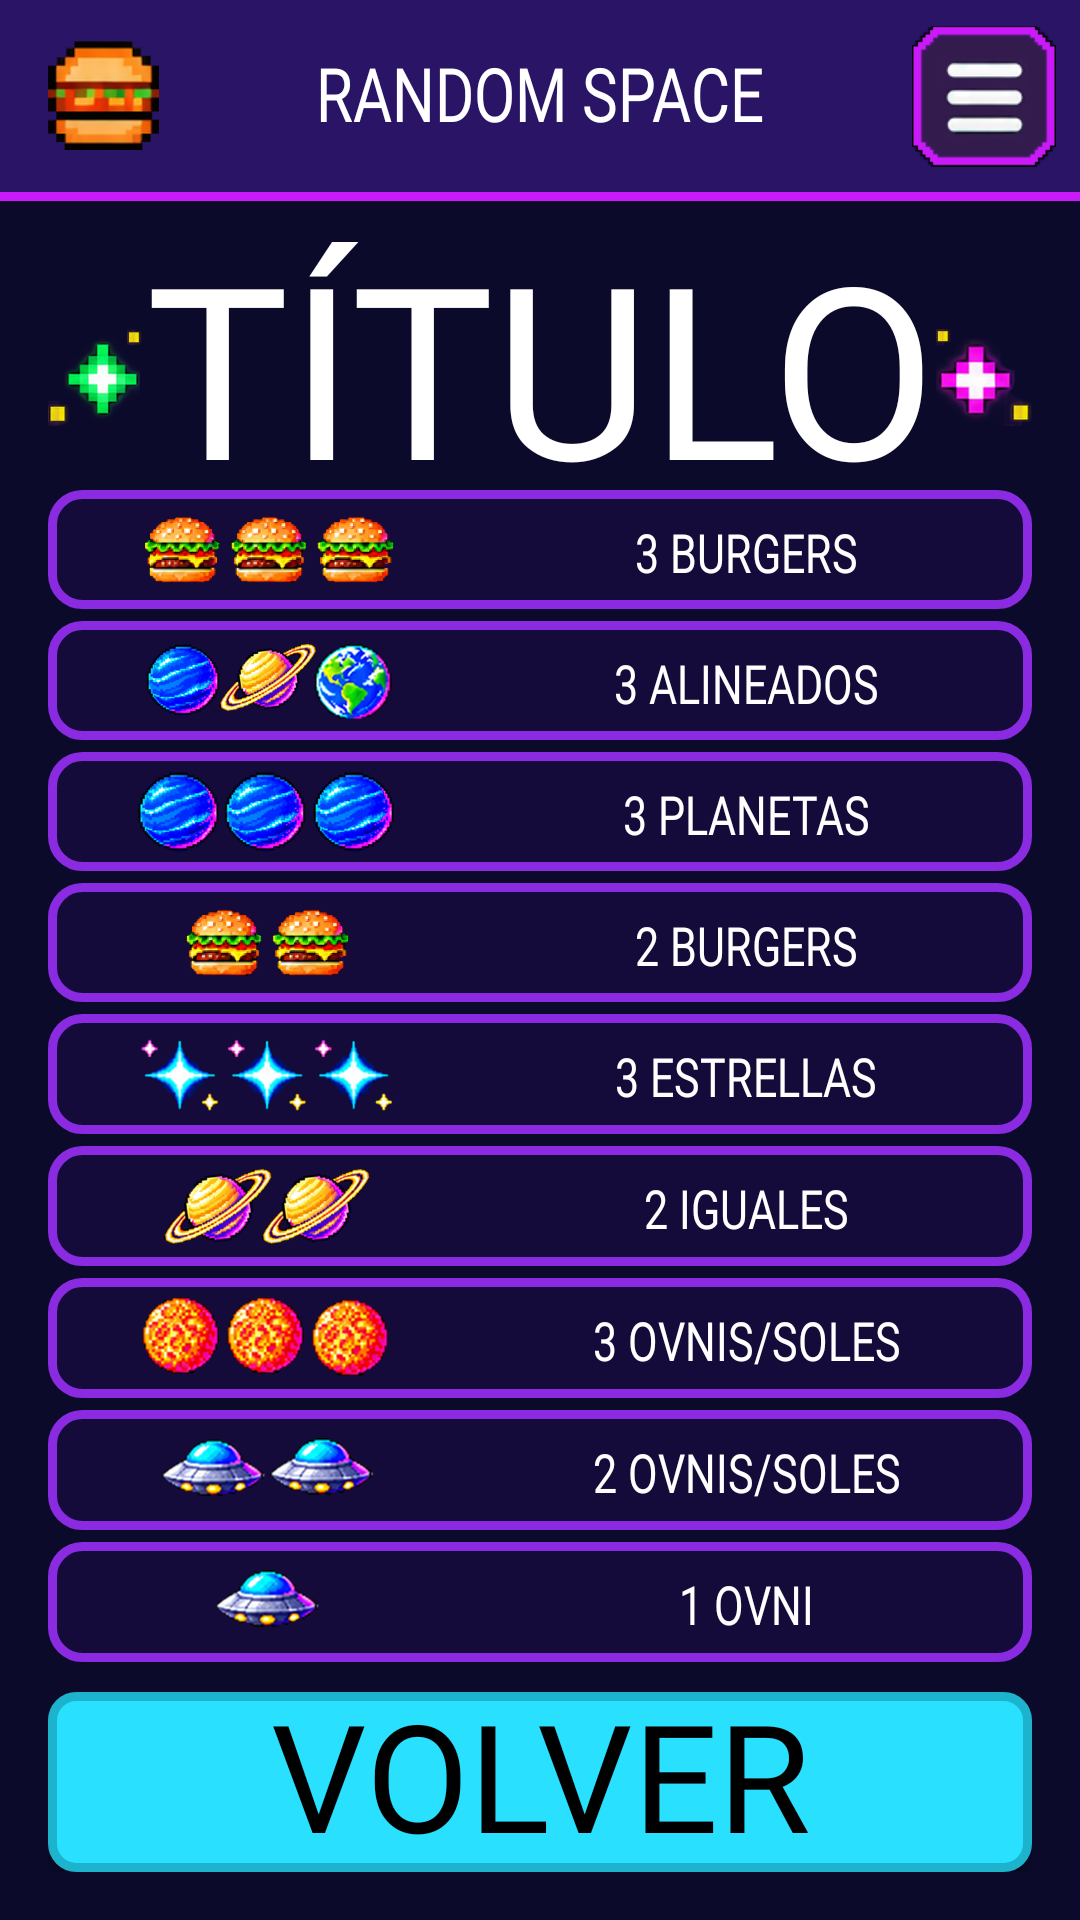

Icon bounding boxes for this 1080×1920 phone screenshot, format [left=x1, top=y1, right=x2, bottom=y2]:
Abrir menú: [left=912, top=26, right=1056, bottom=167]
burger: [left=48, top=41, right=159, bottom=150]
estrellas der: [left=936, top=329, right=1031, bottom=422]
estrellas izq: [left=48, top=330, right=141, bottom=425]
premio alineados: [left=147, top=644, right=391, bottom=720]
premio burgers: [left=145, top=517, right=394, bottom=583], [left=186, top=910, right=349, bottom=976]
premio ovnis: [left=162, top=1438, right=374, bottom=1496]
premio planetas: [left=139, top=773, right=393, bottom=853], [left=164, top=1169, right=370, bottom=1244]
premio soles: [left=142, top=1297, right=388, bottom=1376]
